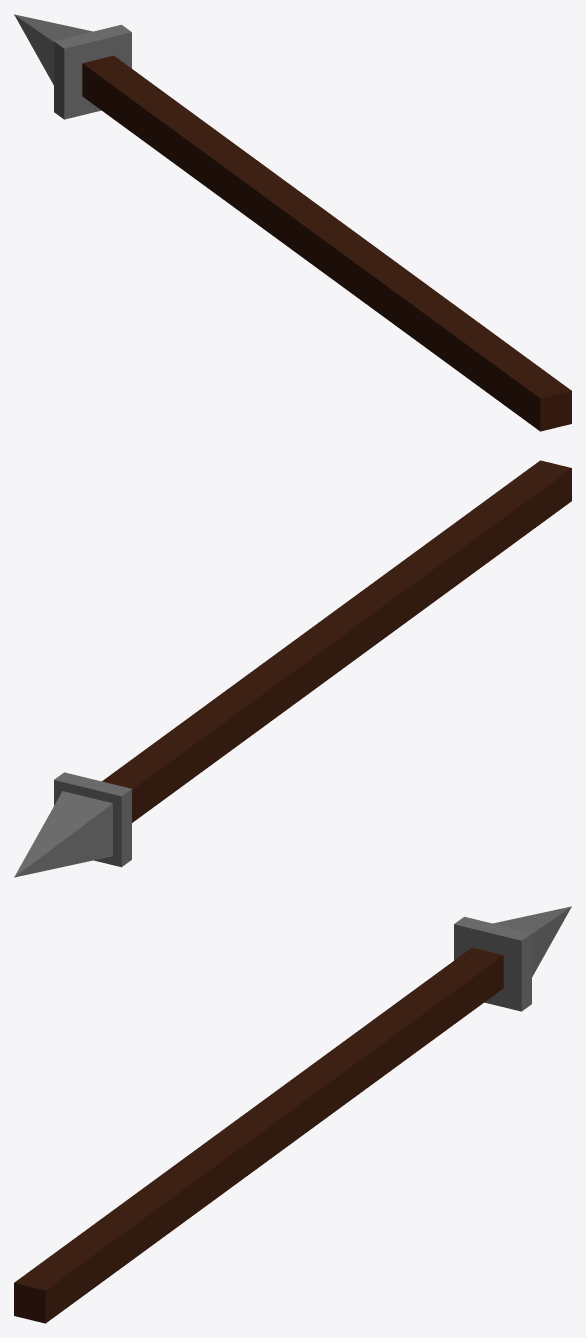
File: arrow.fbx
3 views of the same model, one above another, from view 1: azimuth 30°, elevation 25°; view 2: azimuth 150°, elevation 25°; view 3: azimuth 330°, elevation 25° (orthographic).
Visible parts, largest first — view 1: Cube; view 2: Cube; view 3: Cube.
Boxes of the visible parts, <box> form: Cube: <box>14,14,571,431</box>; Cube: <box>14,460,571,877</box>; Cube: <box>14,906,571,1323</box>.
Size of the model in its own units: 16.44 by 16.44 by 228.
